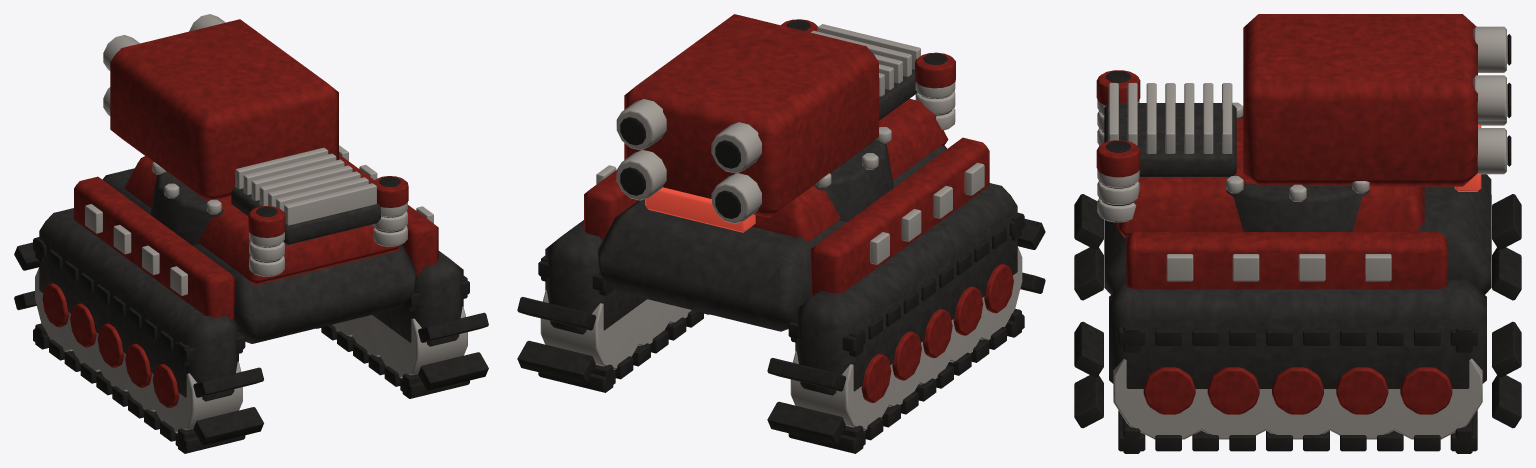
The model's file is kharn_salve.gltf.
3 views of the same model, side by side, from view 1: azimuth 30°, elevation 25°; view 2: azimuth 150°, elevation 25°; view 3: azimuth 270°, elevation 25° (orthographic). The views are drawn at different scales.
Visible parts, largest first — view 1: Root.026_Geometry, GunPitch.013_Geometry, Track_-0.68_0.005_Geometry, Track_0.68_0.005_Geometry, Wheel_-0.67628_0.005_Geometry, Wheel_0.67628_0.005_Geometry, Wheel_-0.67628_4.005_Geometry, Wheel_-0.67628_2.005_Geometry, Wheel_-0.67628_1.005_Geometry, Wheel_-0.67628_3.005_Geometry, Wheel_0.67628_1.005_Geometry; view 2: Root.026_Geometry, GunPitch.013_Geometry, Track_-0.68_0.005_Geometry, Track_0.68_0.005_Geometry, Wheel_-0.67628_4.005_Geometry, Wheel_0.67628_4.005_Geometry, Wheel_-0.67628_0.005_Geometry, Wheel_-0.67628_1.005_Geometry, Wheel_-0.67628_2.005_Geometry, Wheel_-0.67628_3.005_Geometry, Wheel_0.67628_3.005_Geometry; view 3: Root.026_Geometry, GunPitch.013_Geometry, Track_0.68_0.005_Geometry, Track_-0.68_0.005_Geometry, Wheel_0.67628_0.005_Geometry, Wheel_0.67628_4.005_Geometry, Wheel_0.67628_3.005_Geometry, Wheel_0.67628_1.005_Geometry, Wheel_0.67628_2.005_Geometry.
Part boxes in pixels (x1,y1,x2,y2): Root.026_Geometry: [39, 145, 463, 401]; GunPitch.013_Geometry: [103, 14, 338, 201]; Track_-0.68_0.005_Geometry: [14, 237, 263, 453]; Track_0.68_0.005_Geometry: [316, 276, 488, 398]; Wheel_-0.67628_0.005_Geometry: [147, 361, 242, 433]; Wheel_0.67628_0.005_Geometry: [370, 306, 467, 378]; Wheel_-0.67628_4.005_Geometry: [35, 267, 76, 351]; Wheel_-0.67628_2.005_Geometry: [92, 323, 132, 391]; Wheel_-0.67628_1.005_Geometry: [121, 343, 159, 411]; Wheel_-0.67628_3.005_Geometry: [64, 303, 100, 371]; Wheel_0.67628_1.005_Geometry: [348, 315, 380, 356]; Root.026_Geometry: [545, 19, 1017, 395]; GunPitch.013_Geometry: [616, 14, 878, 223]; Track_-0.68_0.005_Geometry: [767, 212, 1045, 453]; Track_0.68_0.005_Geometry: [517, 256, 709, 392]; Wheel_-0.67628_4.005_Geometry: [790, 351, 896, 430]; Wheel_0.67628_4.005_Geometry: [540, 290, 645, 369]; Wheel_-0.67628_0.005_Geometry: [975, 246, 1022, 340]; Wheel_-0.67628_1.005_Geometry: [944, 286, 983, 362]; Wheel_-0.67628_2.005_Geometry: [914, 309, 952, 384]; Wheel_-0.67628_3.005_Geometry: [888, 331, 928, 406]; Wheel_0.67628_3.005_Geometry: [629, 299, 675, 345]; Root.026_Geometry: [1096, 70, 1491, 388]; GunPitch.013_Geometry: [1243, 14, 1511, 186]; Track_0.68_0.005_Geometry: [1074, 321, 1521, 453]; Track_-0.68_0.005_Geometry: [1074, 194, 1521, 300]; Wheel_0.67628_0.005_Geometry: [1113, 358, 1217, 439]; Wheel_0.67628_4.005_Geometry: [1378, 358, 1482, 439]; Wheel_0.67628_3.005_Geometry: [1314, 367, 1410, 439]; Wheel_0.67628_1.005_Geometry: [1186, 367, 1281, 439]; Wheel_0.67628_2.005_Geometry: [1249, 367, 1345, 439].
Bounding box in the file's own units: 1.73 × 1.61 × 2.
Materials: 5 (3 with a texture image).
